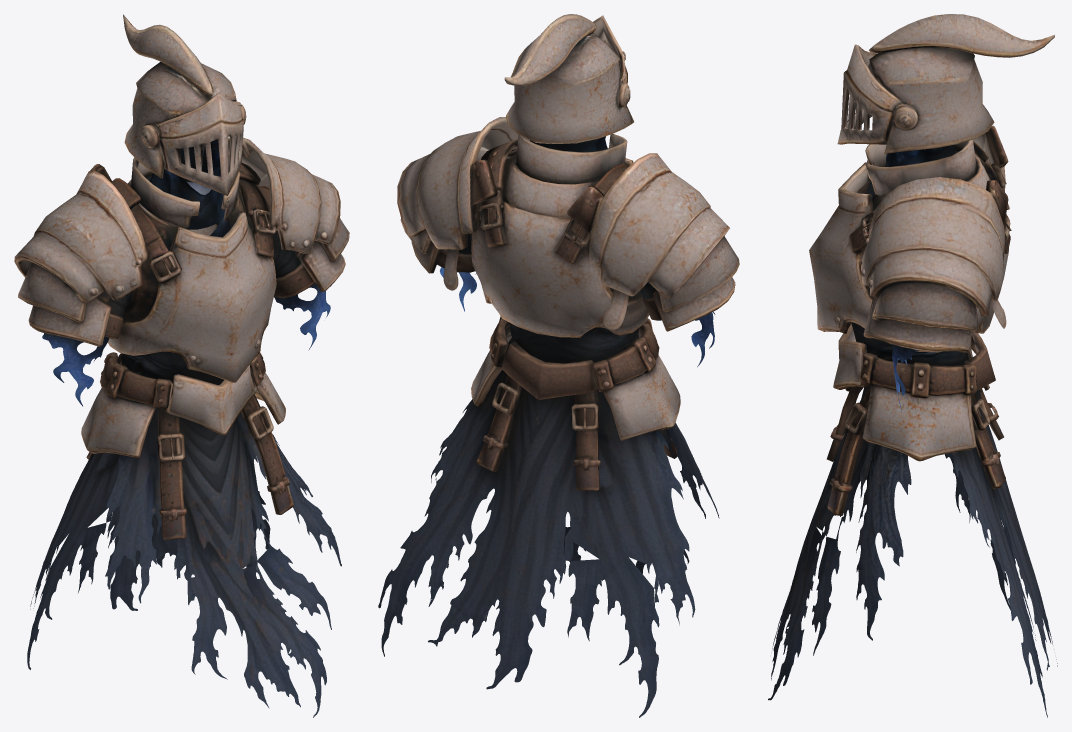
File: player_torso.glb
3 renders of one model, left to right at view 1: azimuth 30°, elevation 25°; view 2: azimuth 150°, elevation 25°; view 3: azimuth 270°, elevation 25°, orthographic. The views are drawn at different scales.
Visible parts, largest first — view 1: tripo_node_6f1ef673-5436-4197-a731-bdc8bb2c2257; view 2: tripo_node_6f1ef673-5436-4197-a731-bdc8bb2c2257; view 3: tripo_node_6f1ef673-5436-4197-a731-bdc8bb2c2257.
Boxes of the visible parts, x1,y1,x2,y2 form: tripo_node_6f1ef673-5436-4197-a731-bdc8bb2c2257: [14, 14, 349, 717]; tripo_node_6f1ef673-5436-4197-a731-bdc8bb2c2257: [378, 14, 739, 717]; tripo_node_6f1ef673-5436-4197-a731-bdc8bb2c2257: [768, 14, 1057, 717].
Size of the model in its own units: 0.521 by 0.9995 by 0.3979.
1 material, 1 textured.
